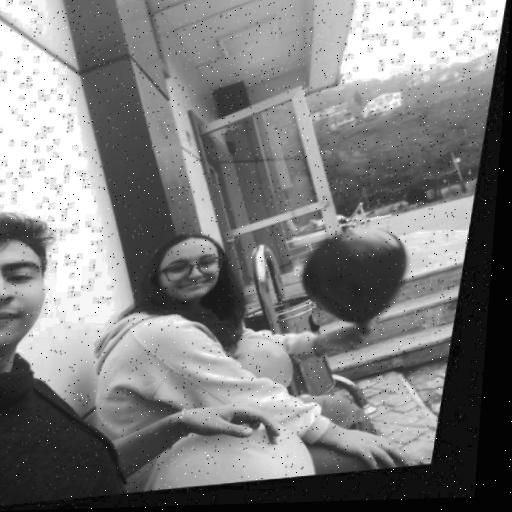balloon: (302, 229, 418, 335)
